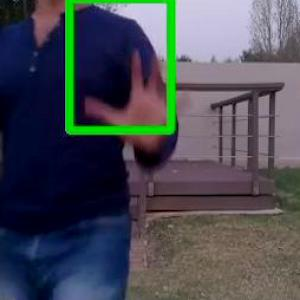follow_hand: (84, 47, 186, 157)
